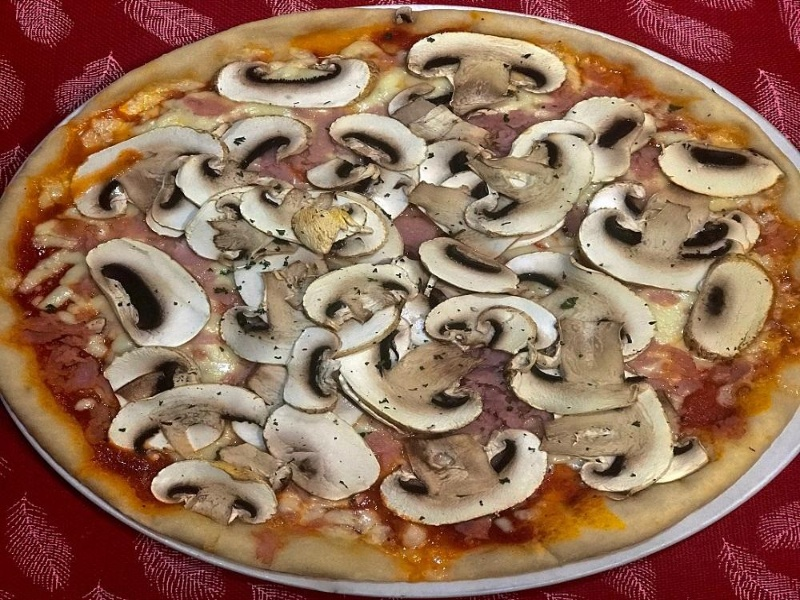champignon: (365, 427, 569, 530), (67, 119, 236, 222), (508, 318, 671, 416), (79, 234, 213, 351), (575, 204, 752, 292), (337, 341, 497, 437), (397, 26, 567, 115), (104, 377, 279, 463), (460, 130, 597, 237), (262, 403, 387, 505), (676, 253, 779, 363), (209, 45, 375, 112), (148, 460, 288, 533), (298, 261, 422, 332), (654, 139, 790, 203), (326, 111, 431, 176), (415, 234, 521, 297), (279, 325, 345, 417)
